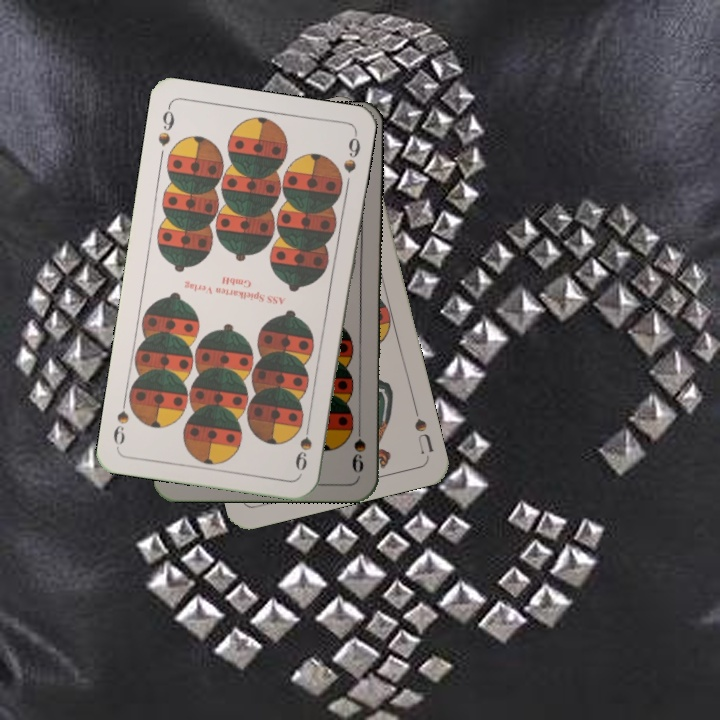S9: (291, 416, 315, 473), (348, 417, 368, 475), (154, 102, 177, 149)
SU: (409, 401, 436, 459)
